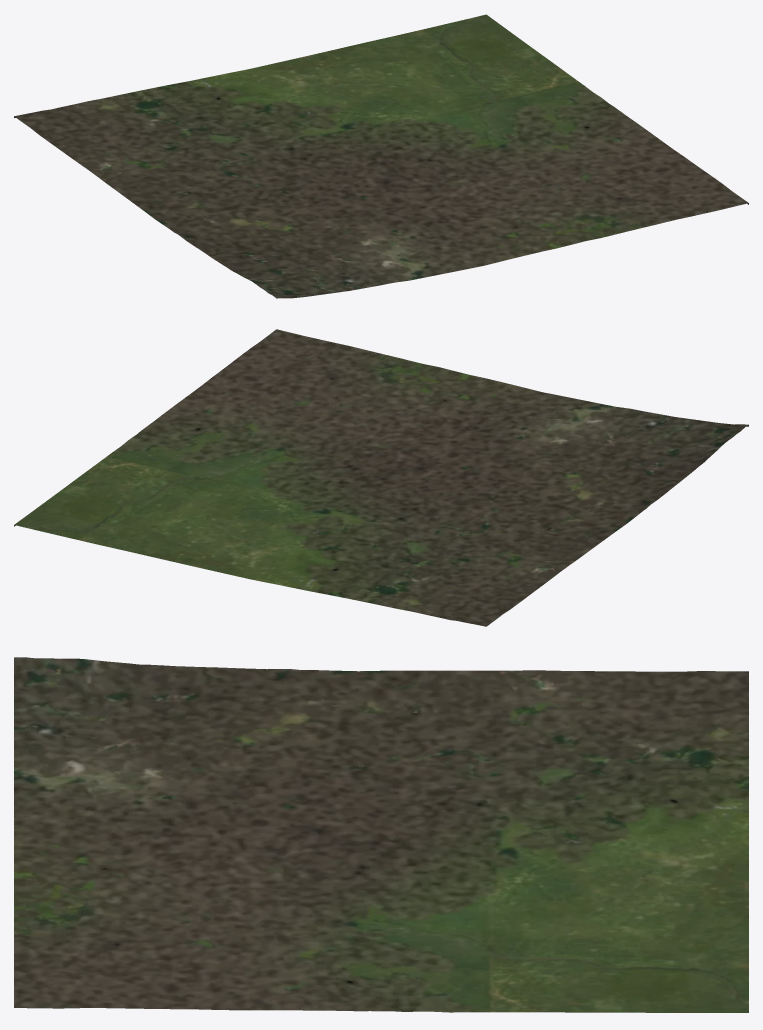
3 renders of one model, top to bottom at view 1: azimuth 30°, elevation 25°; view 2: azimuth 150°, elevation 25°; view 3: azimuth 270°, elevation 25°, orthographic. The views are drawn at different scales.
Bounding box in the file's own units: 250 × 12.91 × 241.
Materials: 1 (1 with a texture image).
